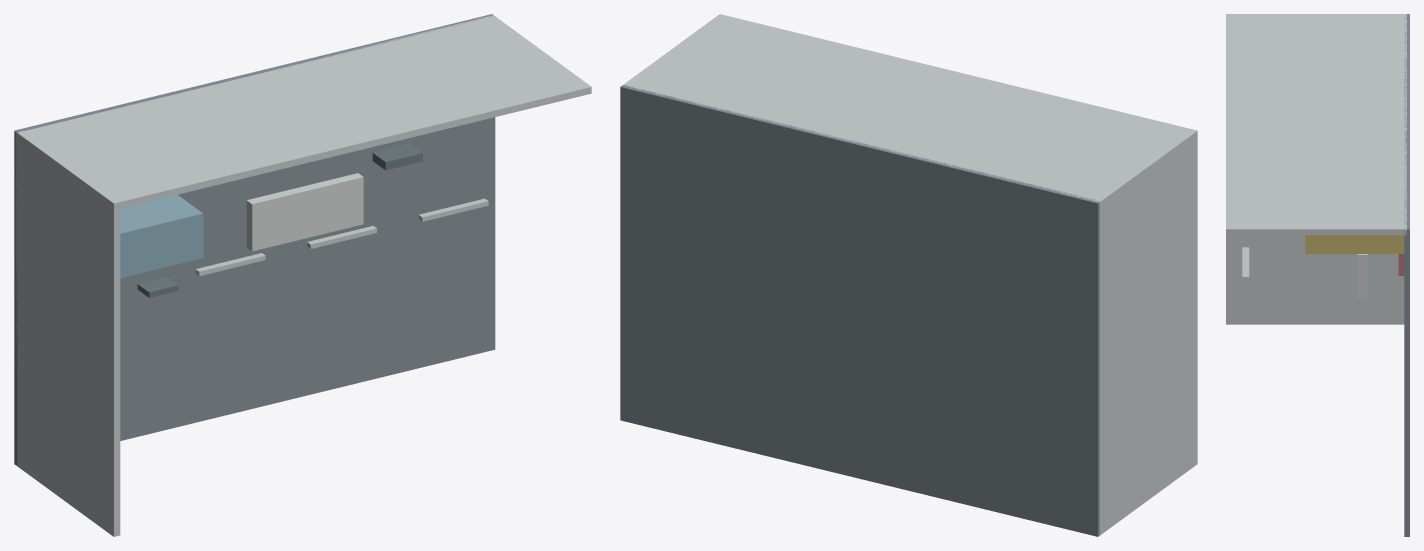
The model's file is upa-medium.glb.
The picture shows the model from 3 angles, left to right: view 1: azimuth 30°, elevation 25°; view 2: azimuth 150°, elevation 25°; view 3: azimuth 270°, elevation 25°; orthographic projection. The views are drawn at different scales.
Visible parts, largest first — view 1: floor, wall_back, wall_left, observation_bed, triage_desk, patient_monitor; view 2: floor, wall_back, wall_left; view 3: wall_back, wall_left, floor, emergency_cabinet, observation_bed, ceiling_panel_3.
Part boxes in pixels (x1,y1,x2,y2): floor: (14, 14, 495, 465); wall_back: (15, 15, 591, 209); wall_left: (15, 131, 120, 536); observation_bed: (246, 173, 363, 251); triage_desk: (120, 194, 203, 277); patient_monitor: (372, 144, 422, 170); floor: (620, 85, 1100, 536); wall_back: (623, 14, 1197, 208); wall_left: (1093, 130, 1197, 535); wall_back: (1226, 14, 1406, 235); wall_left: (1226, 14, 1406, 324); floor: (1404, 14, 1409, 536); emergency_cabinet: (1305, 235, 1404, 253); observation_bed: (1358, 254, 1367, 298); ceiling_panel_3: (1242, 247, 1249, 281).
Size of the model in its own units: 9 by 6 by 3.25.
